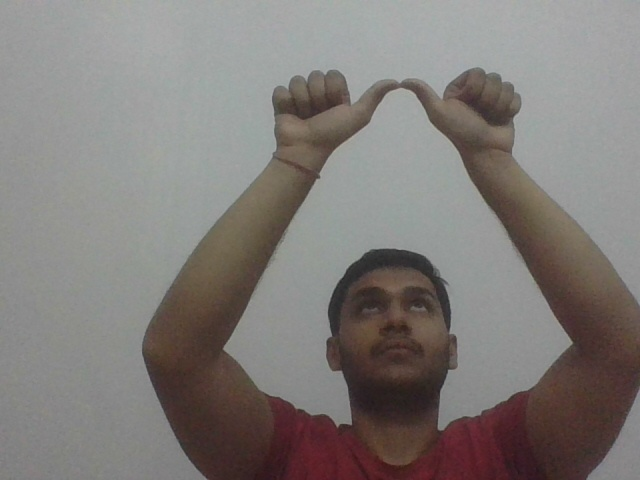A: (269, 67, 524, 157)
